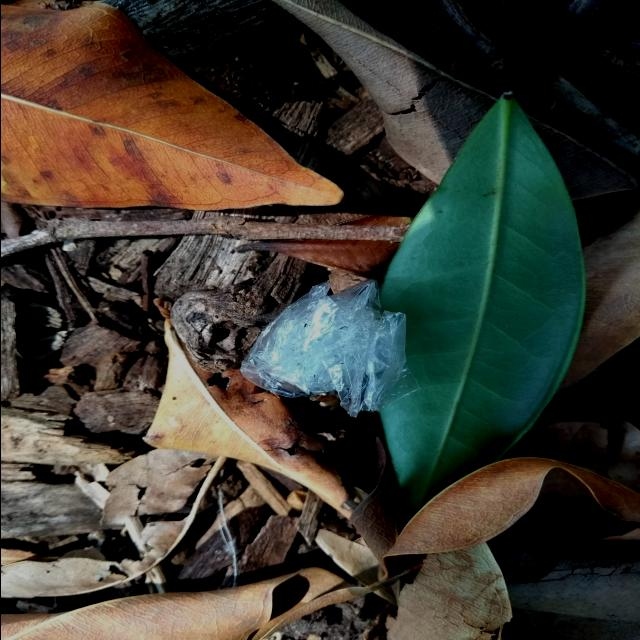Plastic film: (239, 279, 419, 418)
